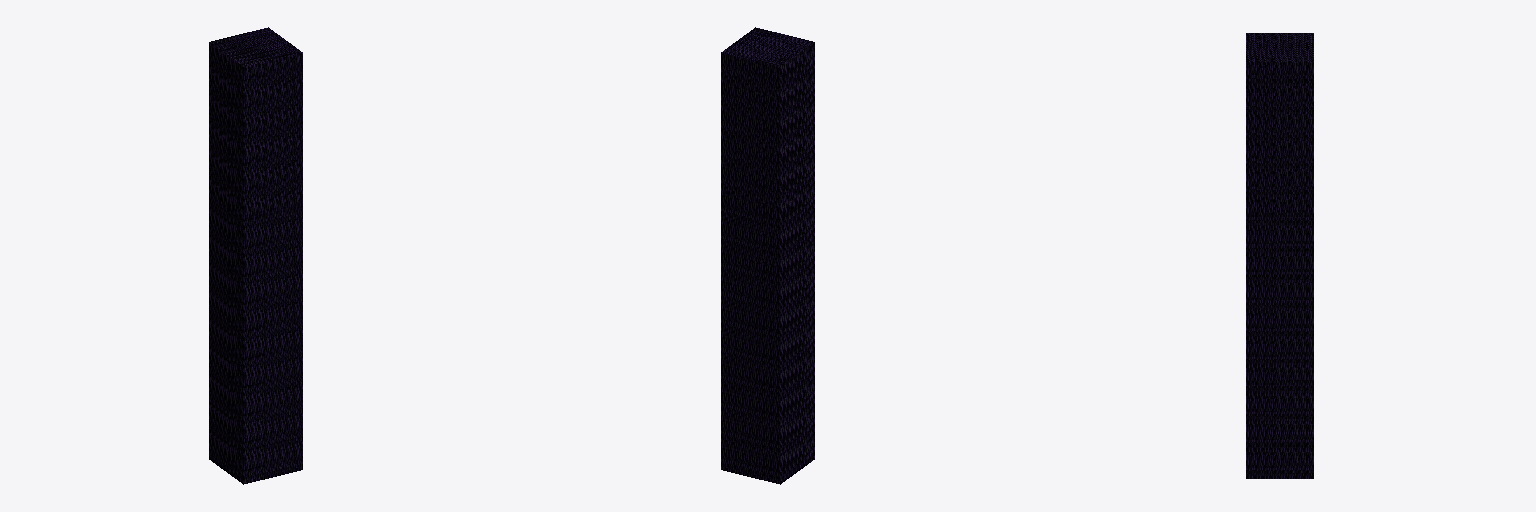
3 views of the same model, side by side, from view 1: azimuth 30°, elevation 25°; view 2: azimuth 150°, elevation 25°; view 3: azimuth 270°, elevation 25° (orthographic).
Parts seen in each view (by area): view 1: Cube; view 2: Cube; view 3: Cube.
Boxes of the visible parts, <box> form: Cube: <box>209,27,302,484</box>; Cube: <box>721,27,814,484</box>; Cube: <box>1246,33,1313,478</box>.
Bounding box in the file's own units: 2 × 13.51 × 2.
Materials: 1 (1 with a texture image).